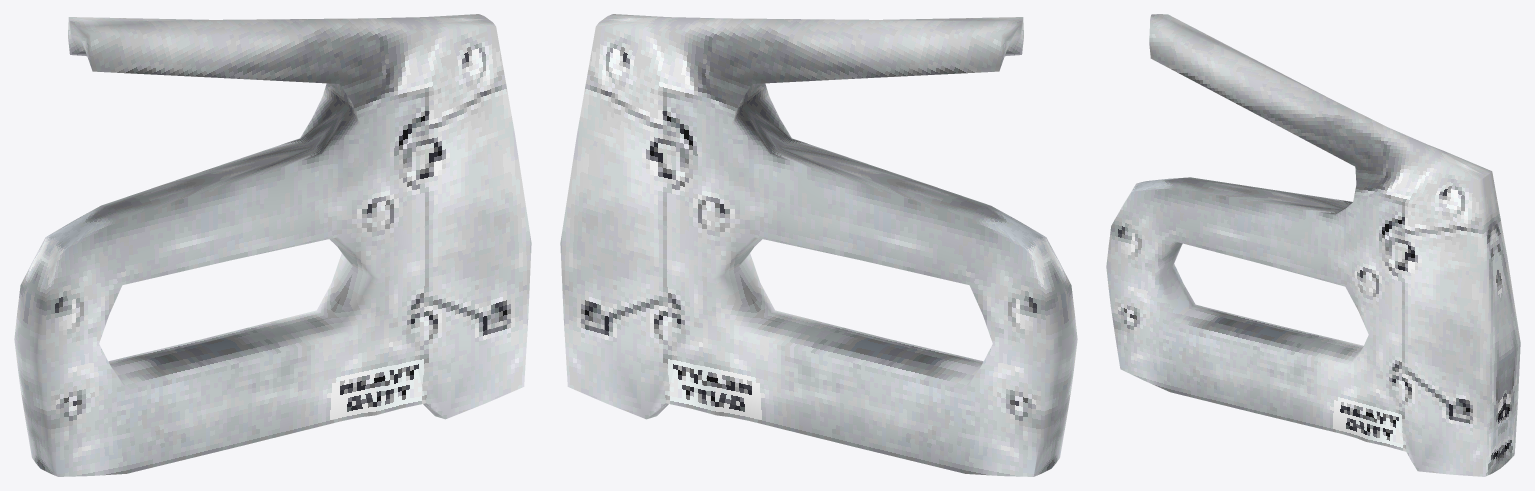
The model's file is ps2_save-icons_backyardwrestling2.glb.
3 views of the same model, side by side, from view 1: azimuth 30°, elevation 25°; view 2: azimuth 150°, elevation 25°; view 3: azimuth 330°, elevation 25° (orthographic). The views are drawn at different scales.
Parts seen in each view (by area): view 1: game.icn; view 2: game.icn; view 3: game.icn.
Boxes of the visible parts, box(x1,y1,x2,y2) form: game.icn: box(14, 14, 531, 476); game.icn: box(560, 14, 1077, 476); game.icn: box(1106, 14, 1520, 476).
Size of the model in its own units: 4.91 by 4.5 by 0.7432.
1 material, 1 textured.
